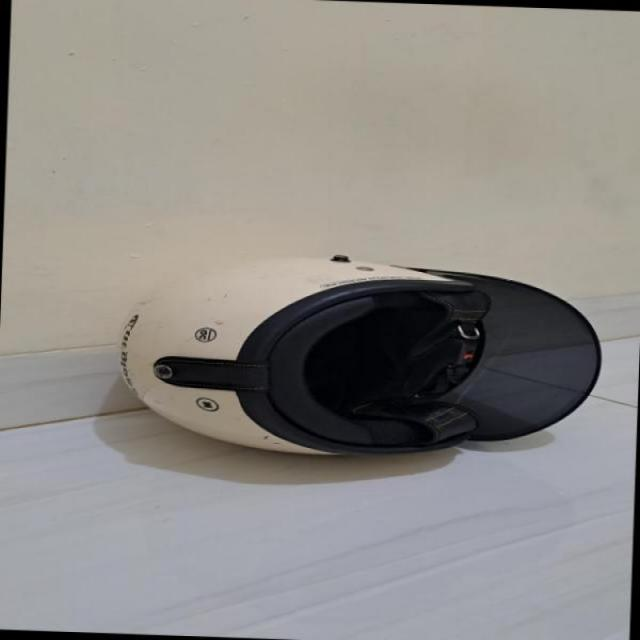Helmet: (121, 244, 612, 469)
